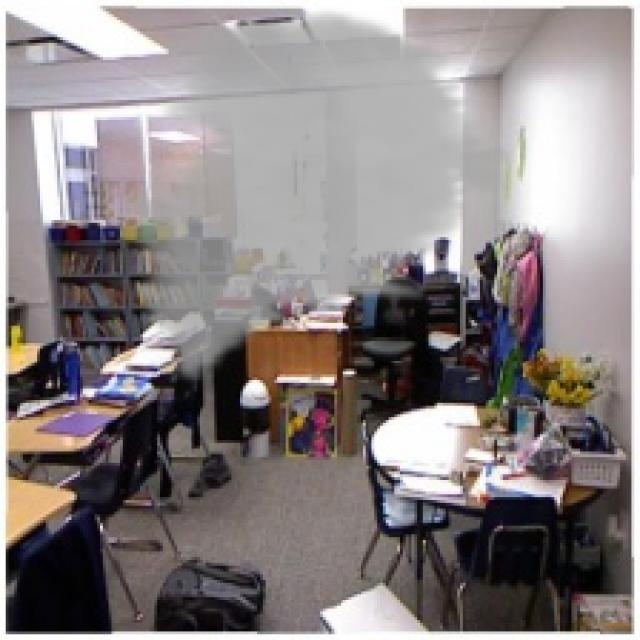smoke: (103, 6, 520, 383)
